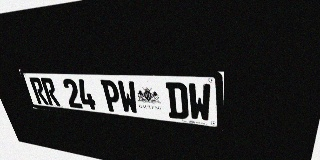2: (62, 78, 83, 108)
4: (75, 79, 97, 110)
D: (165, 82, 189, 120)
P: (100, 80, 122, 113)
R: (40, 78, 61, 106), (29, 77, 49, 105)
W: (187, 83, 211, 122), (117, 80, 139, 114)
